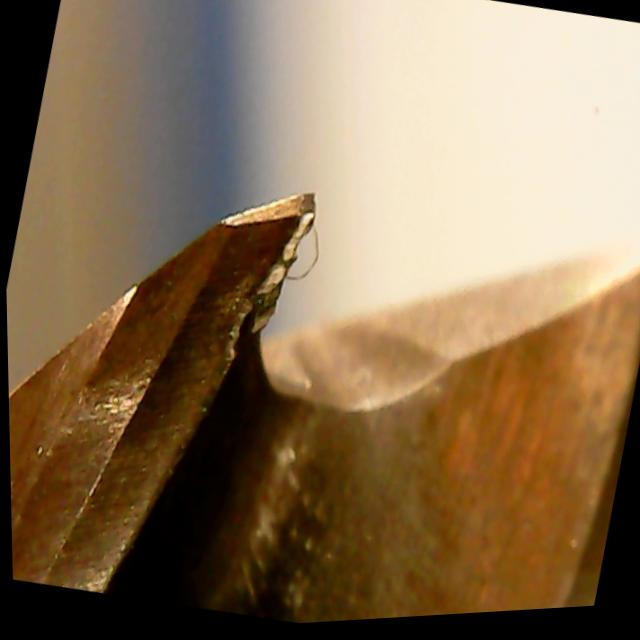Tool-wear-class-2: (104, 143, 335, 487)
